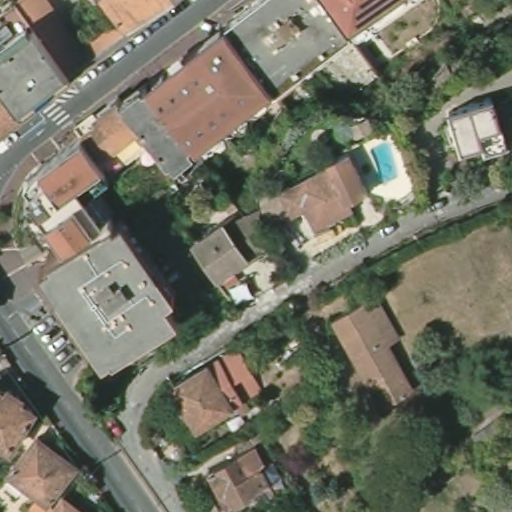pool: (370, 140, 401, 185)
